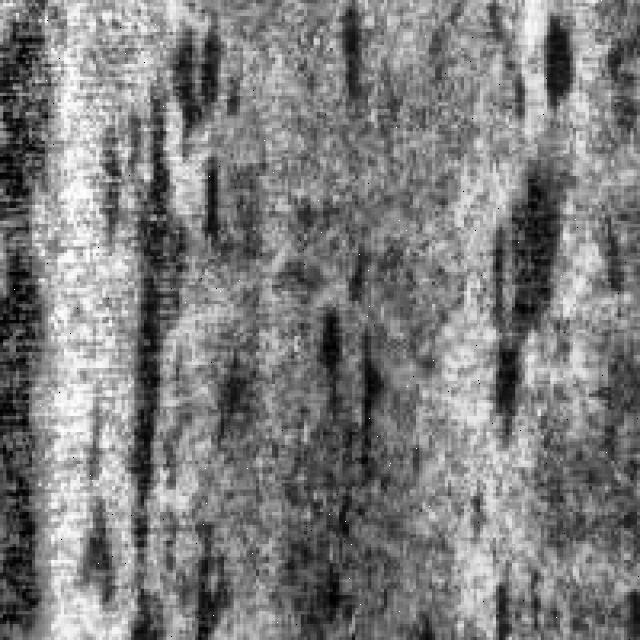Patches: (90, 67, 179, 579), (0, 0, 70, 624), (471, 156, 564, 474), (304, 227, 394, 509), (164, 7, 246, 250), (54, 381, 128, 621), (323, 0, 387, 115), (524, 0, 585, 118)
